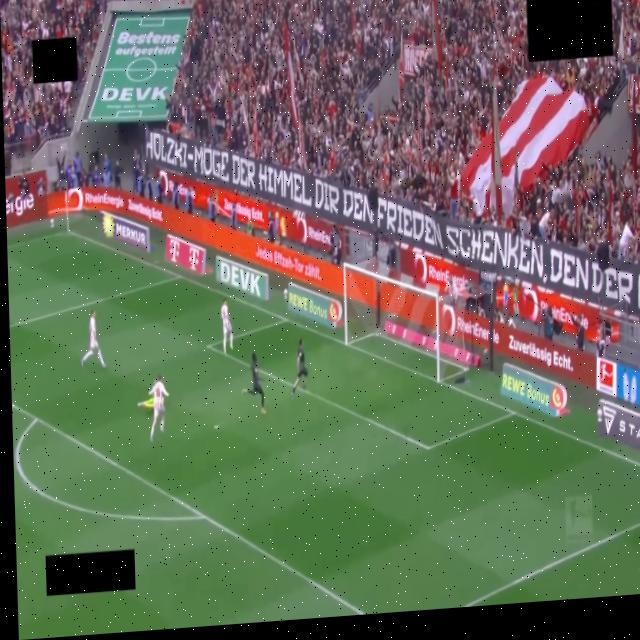player: (243, 352, 266, 413), (82, 311, 105, 368), (149, 375, 168, 442), (291, 338, 308, 399), (222, 299, 233, 353), (138, 398, 153, 411)
